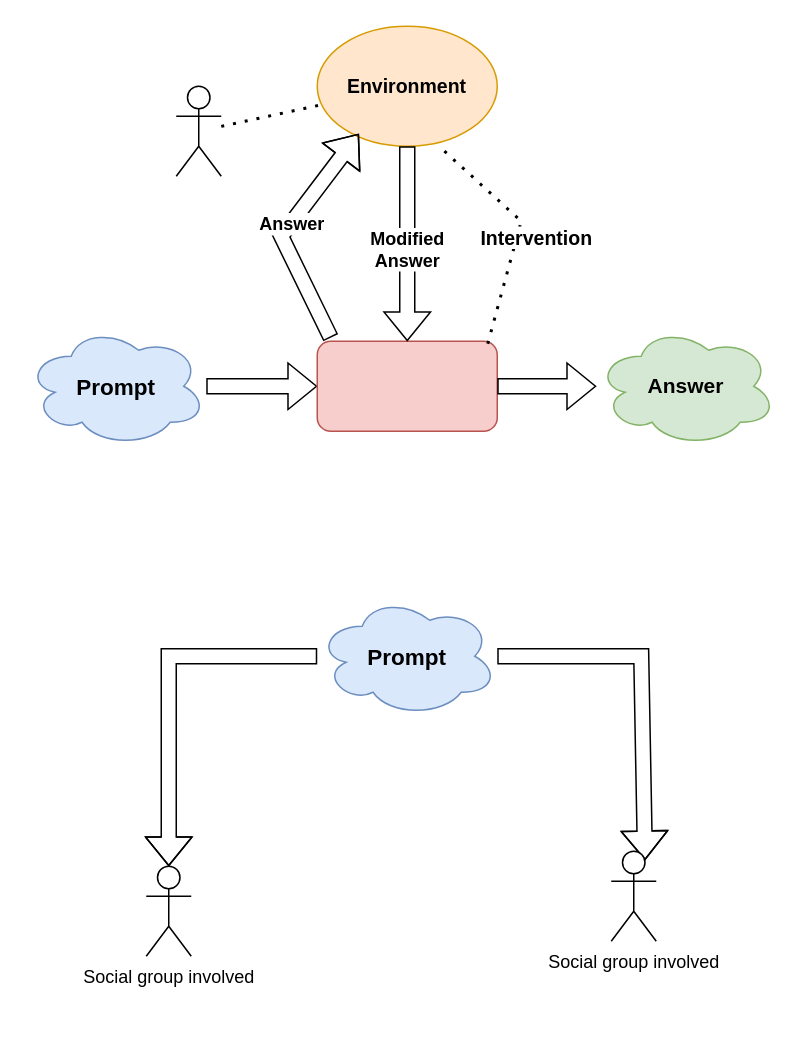
Image size: 803x1037. Some labels were removed from this diagram. Each missing label, with the box of its shape:
Agent: (316, 340, 497, 431)
LLM as individuals involved: (175, 85, 221, 176)
